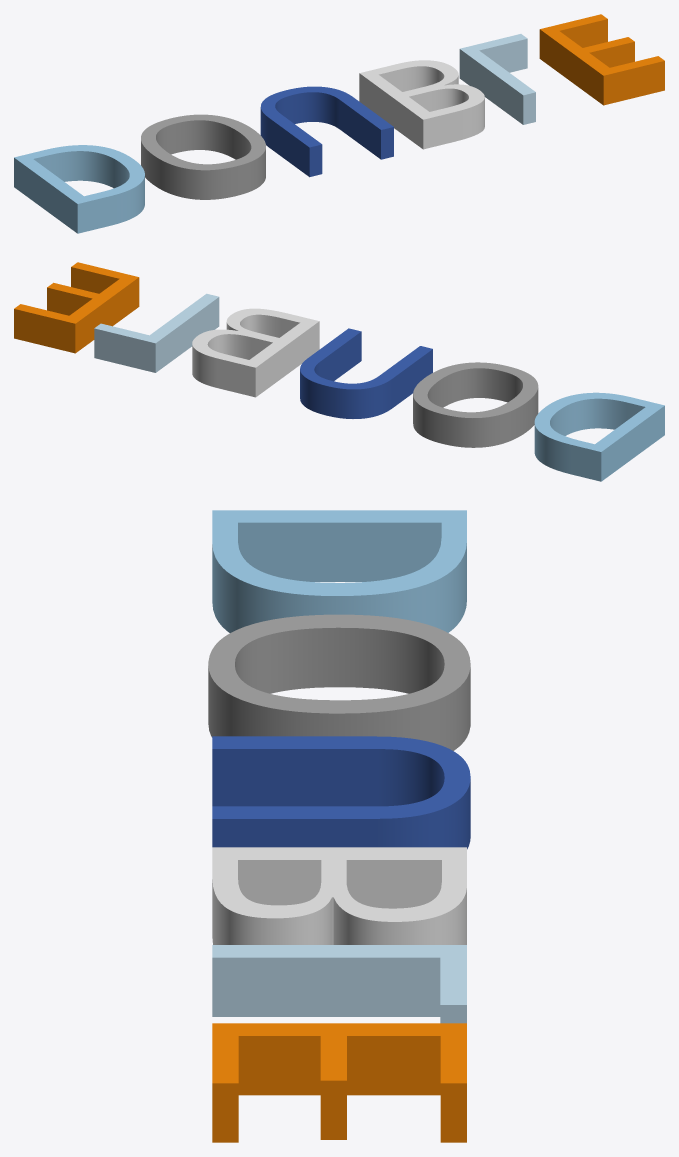
File: XBH.obj
The picture shows the model from 3 angles, top to bottom: view 1: azimuth 30°, elevation 25°; view 2: azimuth 150°, elevation 25°; view 3: azimuth 270°, elevation 25°; orthographic projection. The views are drawn at different scales.
Visible parts, largest first — view 1: mesh8, mesh36, mesh53, mesh74, mesh58, mesh75, mesh16, mesh95, mesh73, mesh71, mesh40, mesh85 (+25 smaller); view 2: mesh8, mesh36, mesh53, mesh16, mesh58, mesh95, mesh76, mesh61, mesh75, mesh71, mesh74, mesh43 (+22 smaller); view 3: mesh81, mesh49, mesh90, mesh8, mesh36, mesh53, mesh95, mesh71, mesh64, mesh68, mesh83, mesh27 (+24 smaller).
Boxes of the visible parts, box(x1,y1,x2,y2) form: mesh8: box(360, 60, 484, 119); mesh36: box(141, 114, 265, 170); mesh53: box(14, 145, 144, 203); mesh74: box(539, 29, 603, 105); mesh58: box(14, 158, 77, 233); mesh75: box(459, 49, 523, 124); mesh16: box(359, 73, 423, 149); mesh95: box(261, 86, 393, 147); mesh73: box(603, 61, 664, 105); mesh71: box(540, 14, 664, 75); mesh40: box(190, 166, 236, 199); mesh85: box(339, 100, 380, 159); mesh8: box(192, 308, 318, 367); mesh36: box(413, 362, 538, 417); mesh53: box(534, 392, 664, 451); mesh16: box(255, 321, 319, 397); mesh58: box(601, 406, 664, 481); mesh95: box(300, 328, 432, 389); mesh76: box(94, 328, 155, 372); mesh61: box(14, 309, 75, 353); mesh75: box(155, 297, 219, 372); mesh71: box(14, 262, 138, 323); mesh74: box(75, 277, 139, 353); mesh43: box(442, 414, 488, 447); mesh81: box(212, 957, 440, 1016); mesh49: box(238, 522, 441, 581); mesh90: box(212, 749, 378, 806); mesh8: box(212, 847, 466, 921); mesh36: box(208, 614, 470, 713); mesh53: box(212, 510, 466, 595); mesh95: box(212, 736, 470, 818); mesh71: box(212, 1023, 466, 1083); mesh64: box(347, 1036, 440, 1095); mesh68: box(238, 1036, 320, 1095); mesh83: box(212, 819, 377, 847); mesh27: box(339, 627, 417, 693).
Size of the model in its own units: 0.5257 by 0.0254 by 0.1017.
